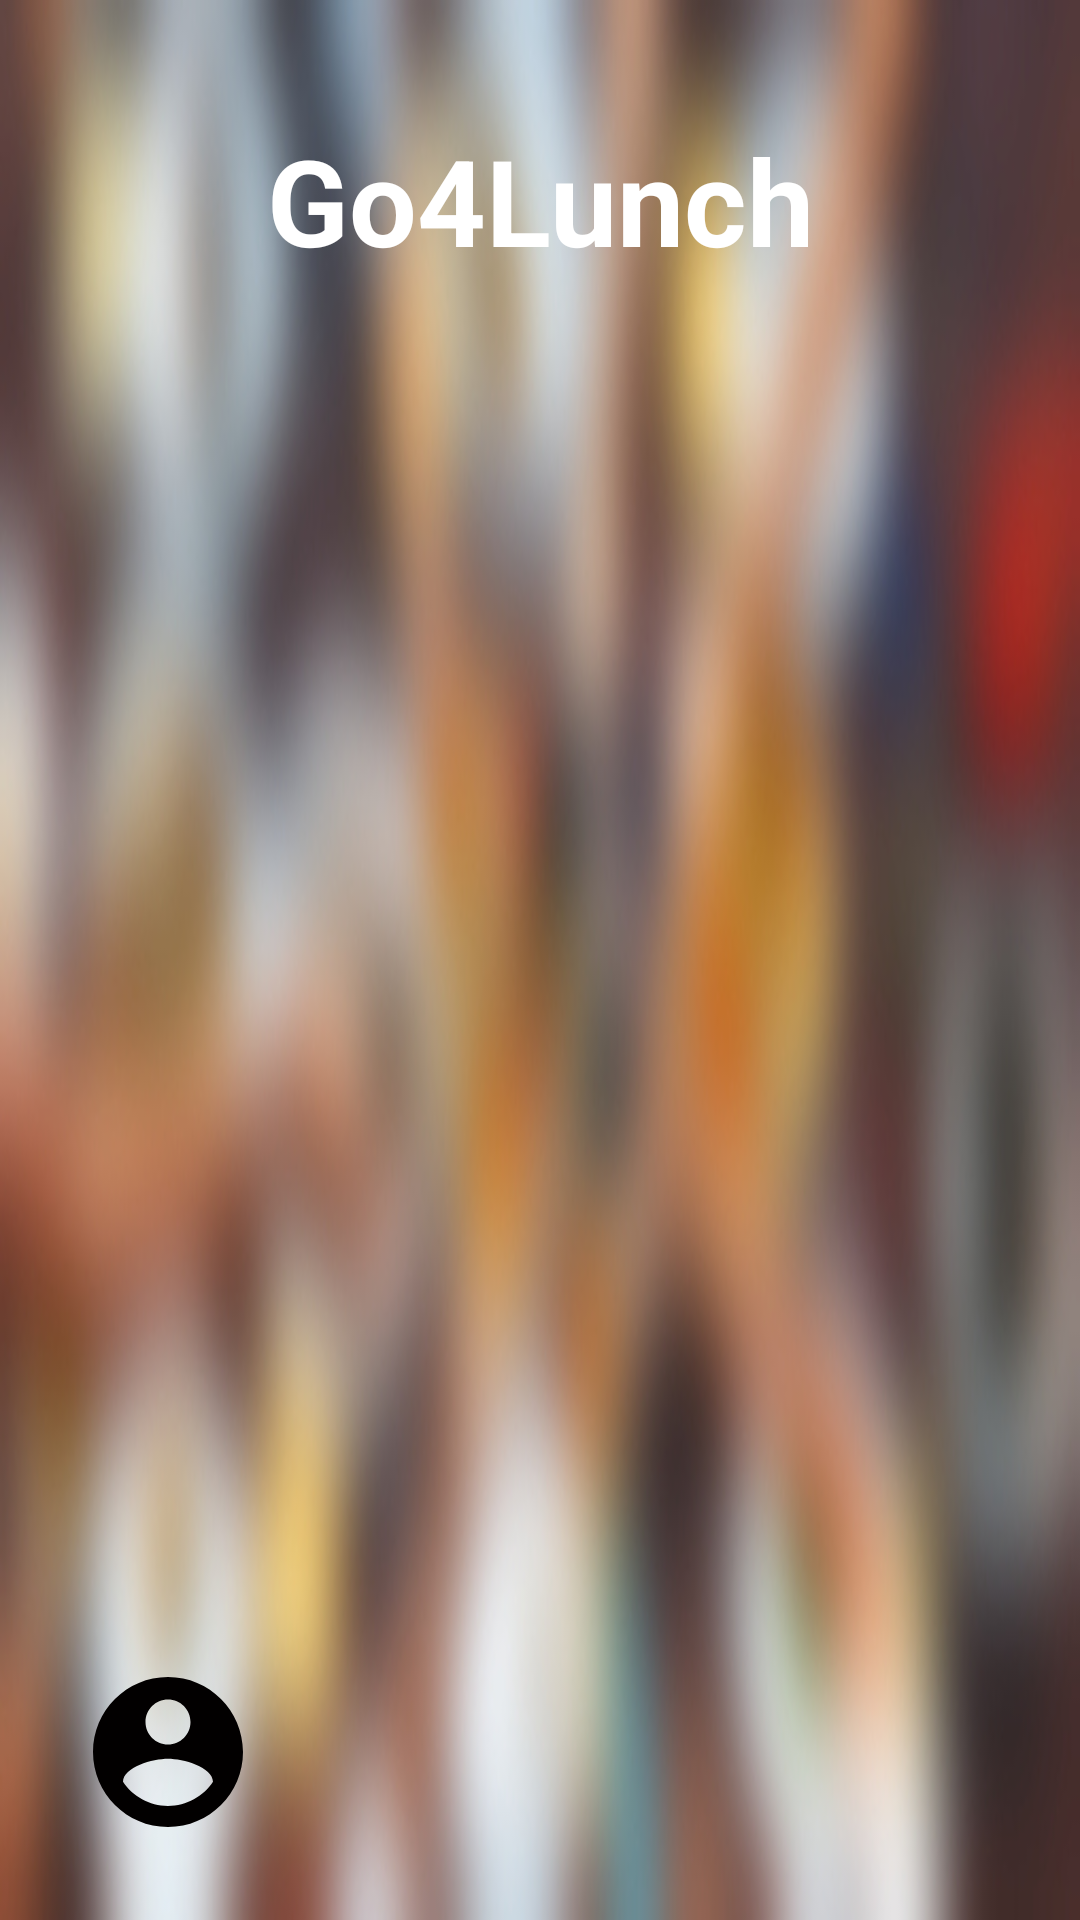

Where to tap for icons on this 1080x1920 app screen, as point (x, y):
account circle: point (168, 1752)
